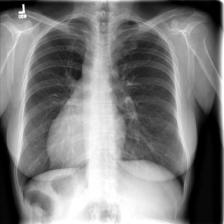normal: (13, 12, 192, 207)
